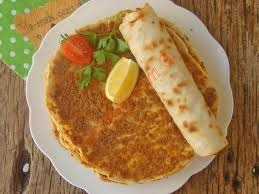lahmacun: (26, 0, 232, 192)
